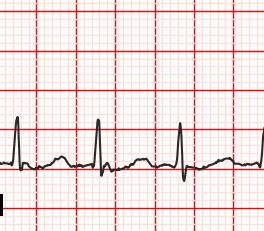ST Depression: (166, 160, 190, 185)
